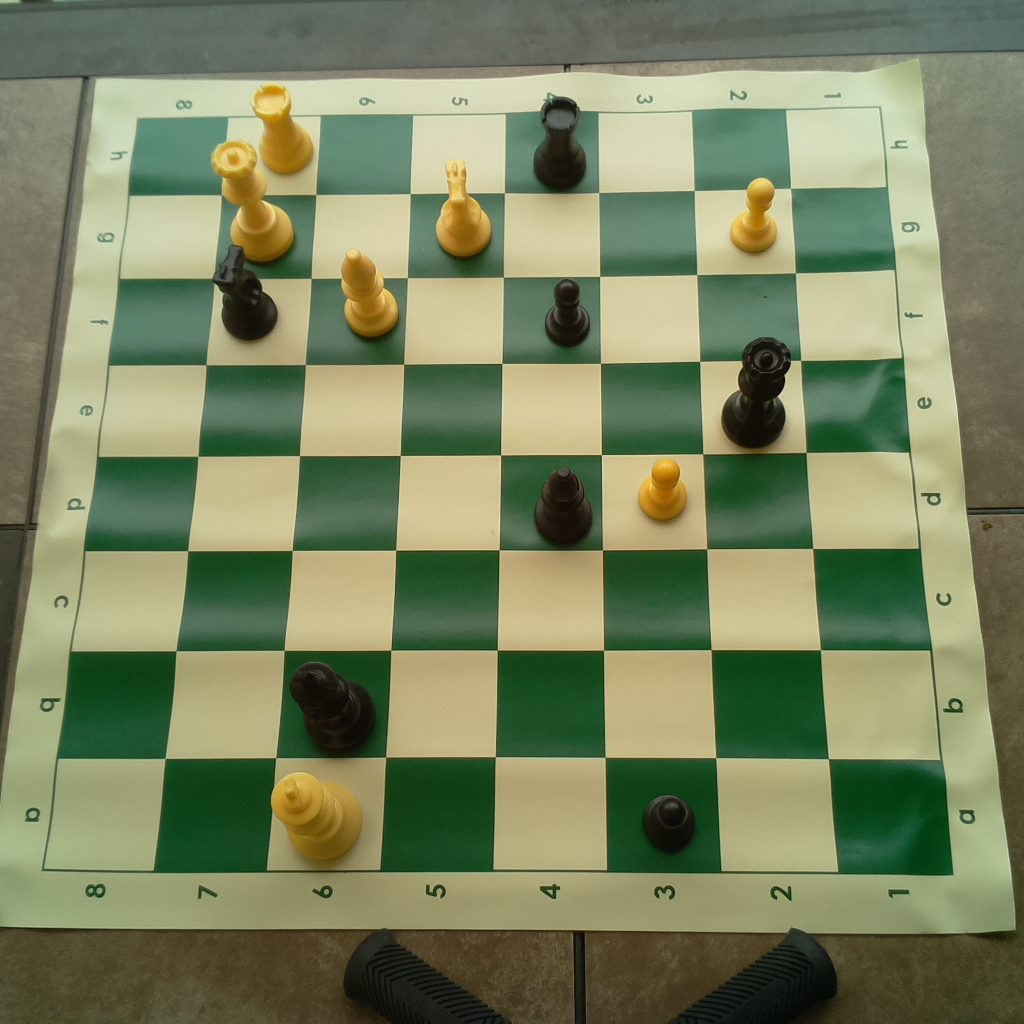black_bishop: (532, 464, 599, 547)
black_king: (284, 656, 380, 757)
black_knight: (203, 238, 281, 341)
black_pawn: (641, 792, 699, 853), (544, 273, 592, 345)
black_queen: (721, 330, 794, 449)
black_rook: (531, 93, 592, 193)
file_a: (42, 758, 958, 874)
file_b: (58, 651, 942, 760)
file_c: (71, 549, 936, 651)
file_d: (84, 453, 921, 548)
file_e: (101, 358, 911, 454)
file_f: (108, 267, 901, 361)
file_g: (116, 187, 894, 270)
file_h: (129, 105, 889, 186)
outline: (42, 106, 953, 874)
rank_1: (786, 104, 957, 874)
rank_2: (693, 106, 842, 871)
rank_3: (598, 110, 724, 871)
rank_4: (493, 114, 610, 871)
rank_5: (380, 118, 505, 871)
rank_6: (268, 113, 416, 873)
rank_7: (155, 117, 321, 871)
rank_8: (45, 118, 231, 870)
white_bishop: (334, 243, 403, 336)
white_king: (267, 769, 366, 862)
white_knight: (431, 154, 497, 258)
white_pawn: (729, 173, 785, 254), (632, 454, 690, 523)
white_queen: (205, 136, 297, 261)
white_rook: (249, 82, 318, 174)
